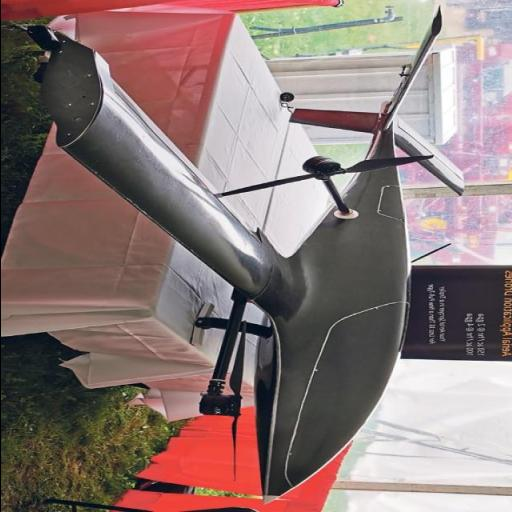uav: (18, 12, 468, 502)
